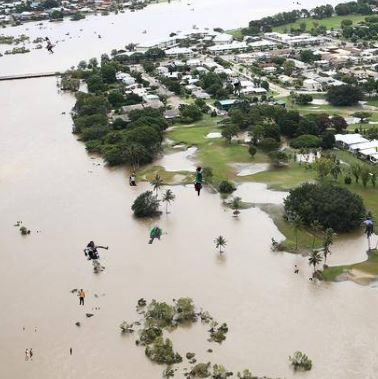Human: (83, 241, 109, 262), (148, 223, 172, 244), (221, 75, 243, 97), (193, 166, 204, 201), (77, 289, 99, 306), (359, 217, 374, 239), (168, 62, 192, 75), (45, 37, 55, 55), (129, 171, 138, 186), (25, 348, 34, 361), (294, 265, 299, 274), (324, 114, 339, 116), (293, 2, 301, 5), (92, 307, 100, 310), (374, 147, 378, 152), (70, 347, 72, 355), (17, 221, 22, 224), (369, 139, 372, 143), (309, 278, 313, 281), (23, 326, 25, 331), (84, 98, 86, 103), (35, 327, 37, 332), (319, 56, 321, 61), (37, 231, 42, 233), (113, 135, 116, 138)
